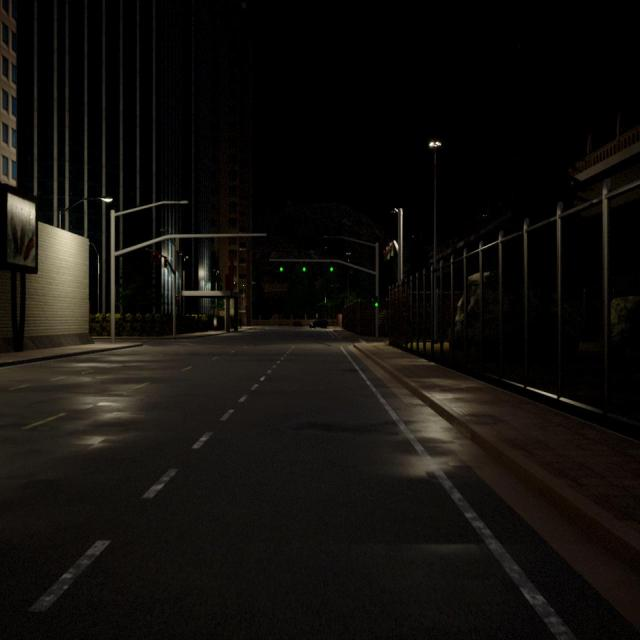Vehicle: (308, 320, 329, 330), (292, 320, 303, 328)
traffic_light: (389, 242, 393, 256), (302, 261, 307, 272), (375, 296, 379, 308), (164, 256, 168, 268), (386, 247, 390, 259), (175, 296, 179, 307), (280, 260, 283, 272), (330, 260, 333, 272), (152, 251, 155, 256), (158, 254, 161, 259), (383, 250, 386, 255)
